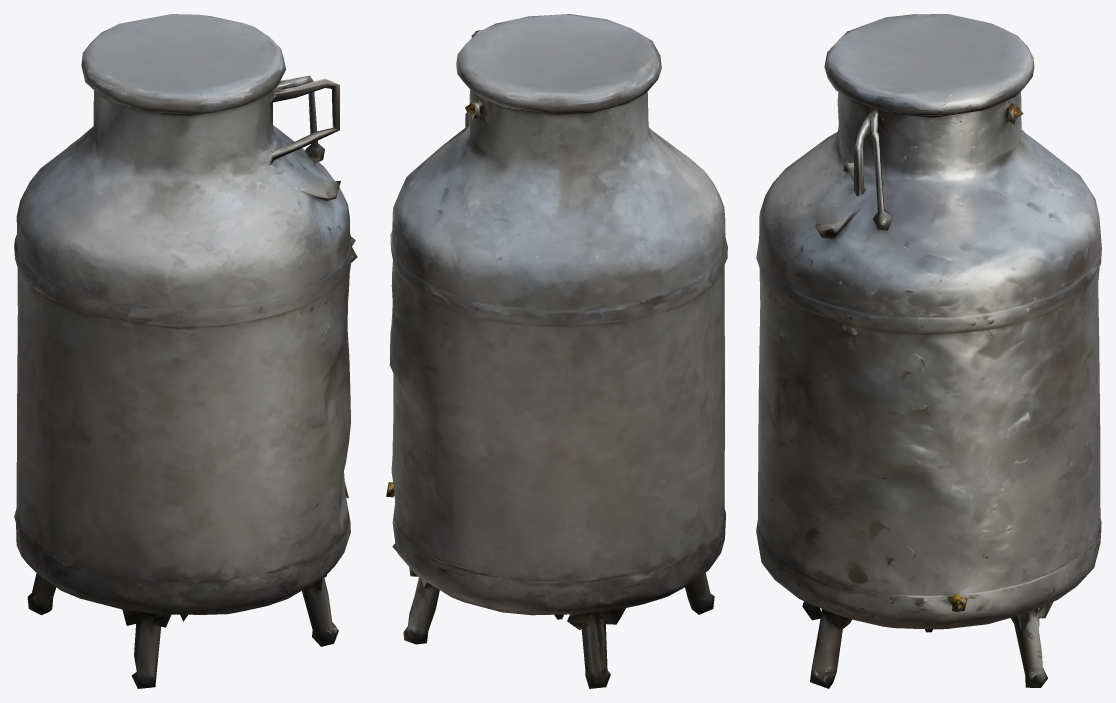
Rendered from cs_milktank.glb.
3 views of the same model, side by side, from view 1: azimuth 30°, elevation 25°; view 2: azimuth 150°, elevation 25°; view 3: azimuth 270°, elevation 25° (orthographic). The views are drawn at different scales.
Visible parts, largest first — view 1: tripo_node_9e899ba8-35bc-4257-8716-e7ec9ab658b8; view 2: tripo_node_9e899ba8-35bc-4257-8716-e7ec9ab658b8; view 3: tripo_node_9e899ba8-35bc-4257-8716-e7ec9ab658b8.
Part boxes in pixels (x1,y1,x2,y2): tripo_node_9e899ba8-35bc-4257-8716-e7ec9ab658b8: (14,14,357,688); tripo_node_9e899ba8-35bc-4257-8716-e7ec9ab658b8: (386,14,727,688); tripo_node_9e899ba8-35bc-4257-8716-e7ec9ab658b8: (756,14,1101,688).
Size of the model in its own units: 0.5668 by 1 by 0.5342.
1 material, 1 textured.
